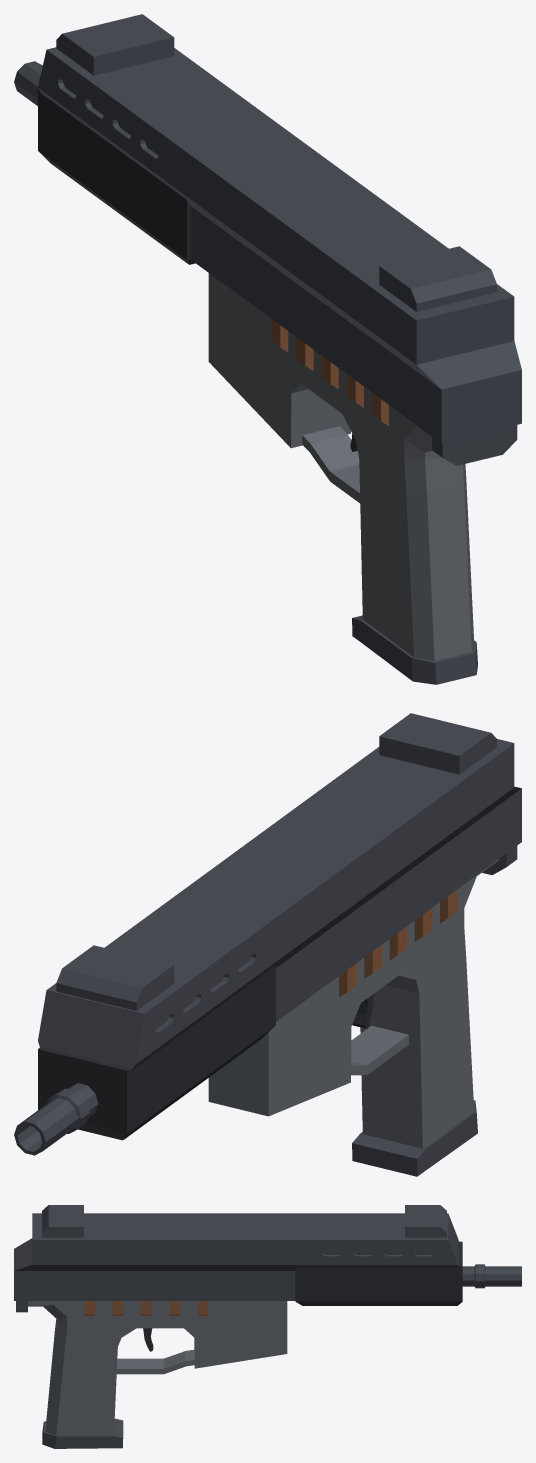
Rendered from machine_pistol.glb.
3 views of the same model, one above another, from view 1: azimuth 30°, elevation 25°; view 2: azimuth 150°, elevation 25°; view 3: azimuth 270°, elevation 25° (orthographic). The views are drawn at different scales.
Visible parts, largest first — view 1: machine_pistol; view 2: machine_pistol; view 3: machine_pistol.
Part boxes in pixels (<box>): machine_pistol: <box>14,14,521,684</box>; machine_pistol: <box>14,713,521,1176</box>; machine_pistol: <box>14,1205,521,1448</box>.
Bounding box in the file's own units: 0.05 × 0.1946 × 0.4.
